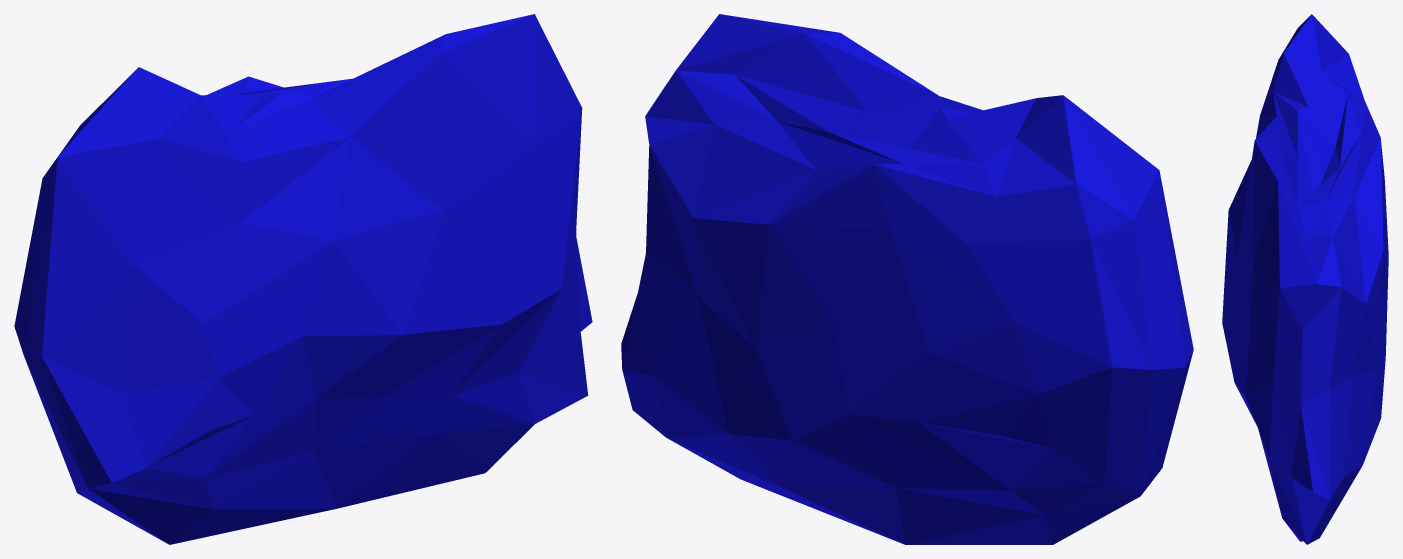
File: stone3.FBX
3 views of the same model, side by side, from view 1: azimuth 30°, elevation 25°; view 2: azimuth 150°, elevation 25°; view 3: azimuth 270°, elevation 25° (orthographic). The views are drawn at different scales.
Visible parts, largest first — view 1: GeoSphere005; view 2: GeoSphere005; view 3: GeoSphere005.
Part boxes in pixels (x1,y1,x2,y2): GeoSphere005: (14, 14, 592, 544); GeoSphere005: (621, 14, 1193, 544); GeoSphere005: (1222, 14, 1388, 544).
Bounding box in the file's own units: 88.43 × 72.26 × 27.3.
